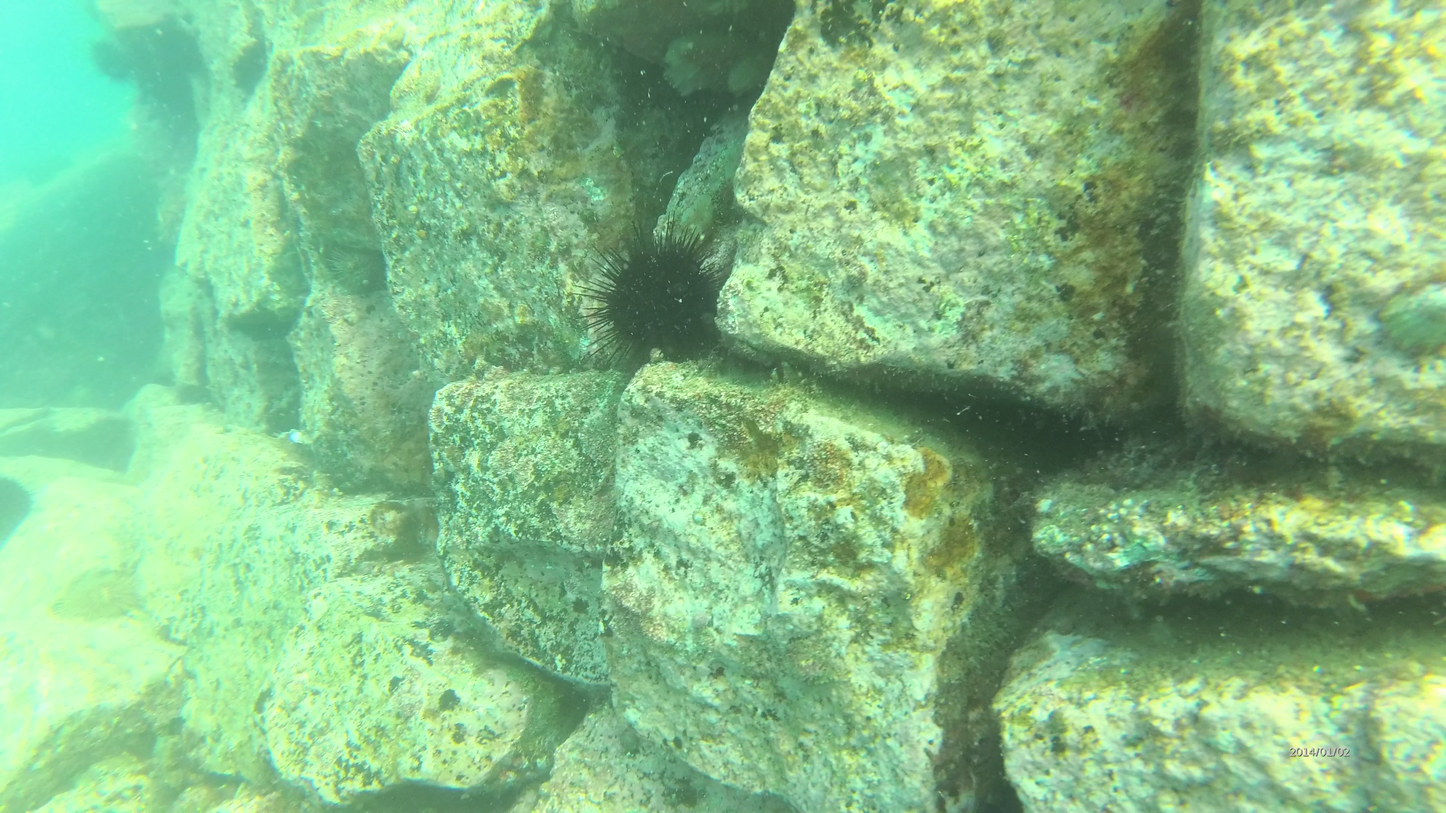scallop: (1379, 272, 1446, 358)
starfish: (583, 217, 736, 365), (321, 244, 393, 300)
